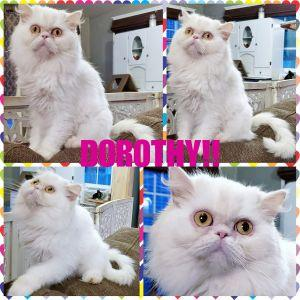persian: (8, 5, 86, 85)
